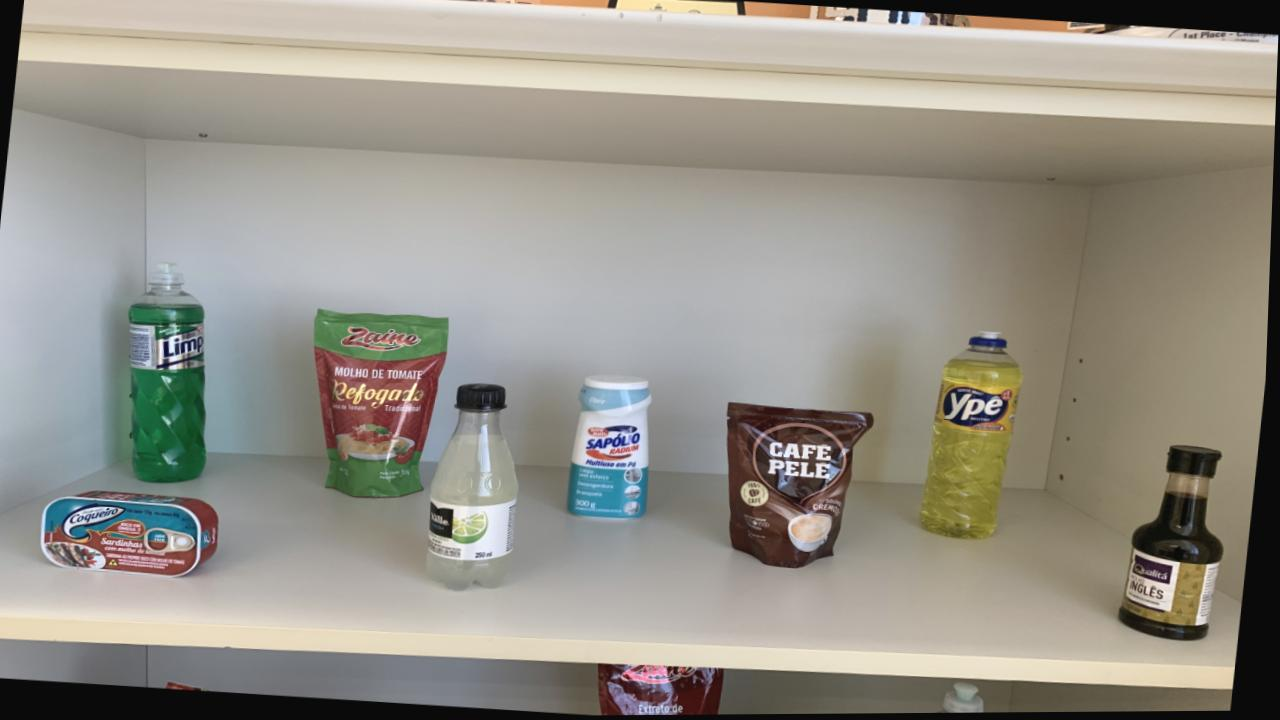Cleaner-Cleanup_Items: (570, 376, 655, 520)
Coffee-Pantry_Items: (729, 403, 876, 569)
Detergent-Cleanup_Items: (924, 334, 1026, 540), (130, 262, 210, 483), (939, 683, 989, 714)
English_Sauce-Pantry_Items: (1122, 446, 1227, 642)
Soda-Drinks: (431, 384, 522, 591)
Tomato_Sauce-Pantry_Items: (316, 310, 451, 498), (602, 664, 729, 716)
Tuna_Can-Pantry_Items: (44, 490, 223, 576)
